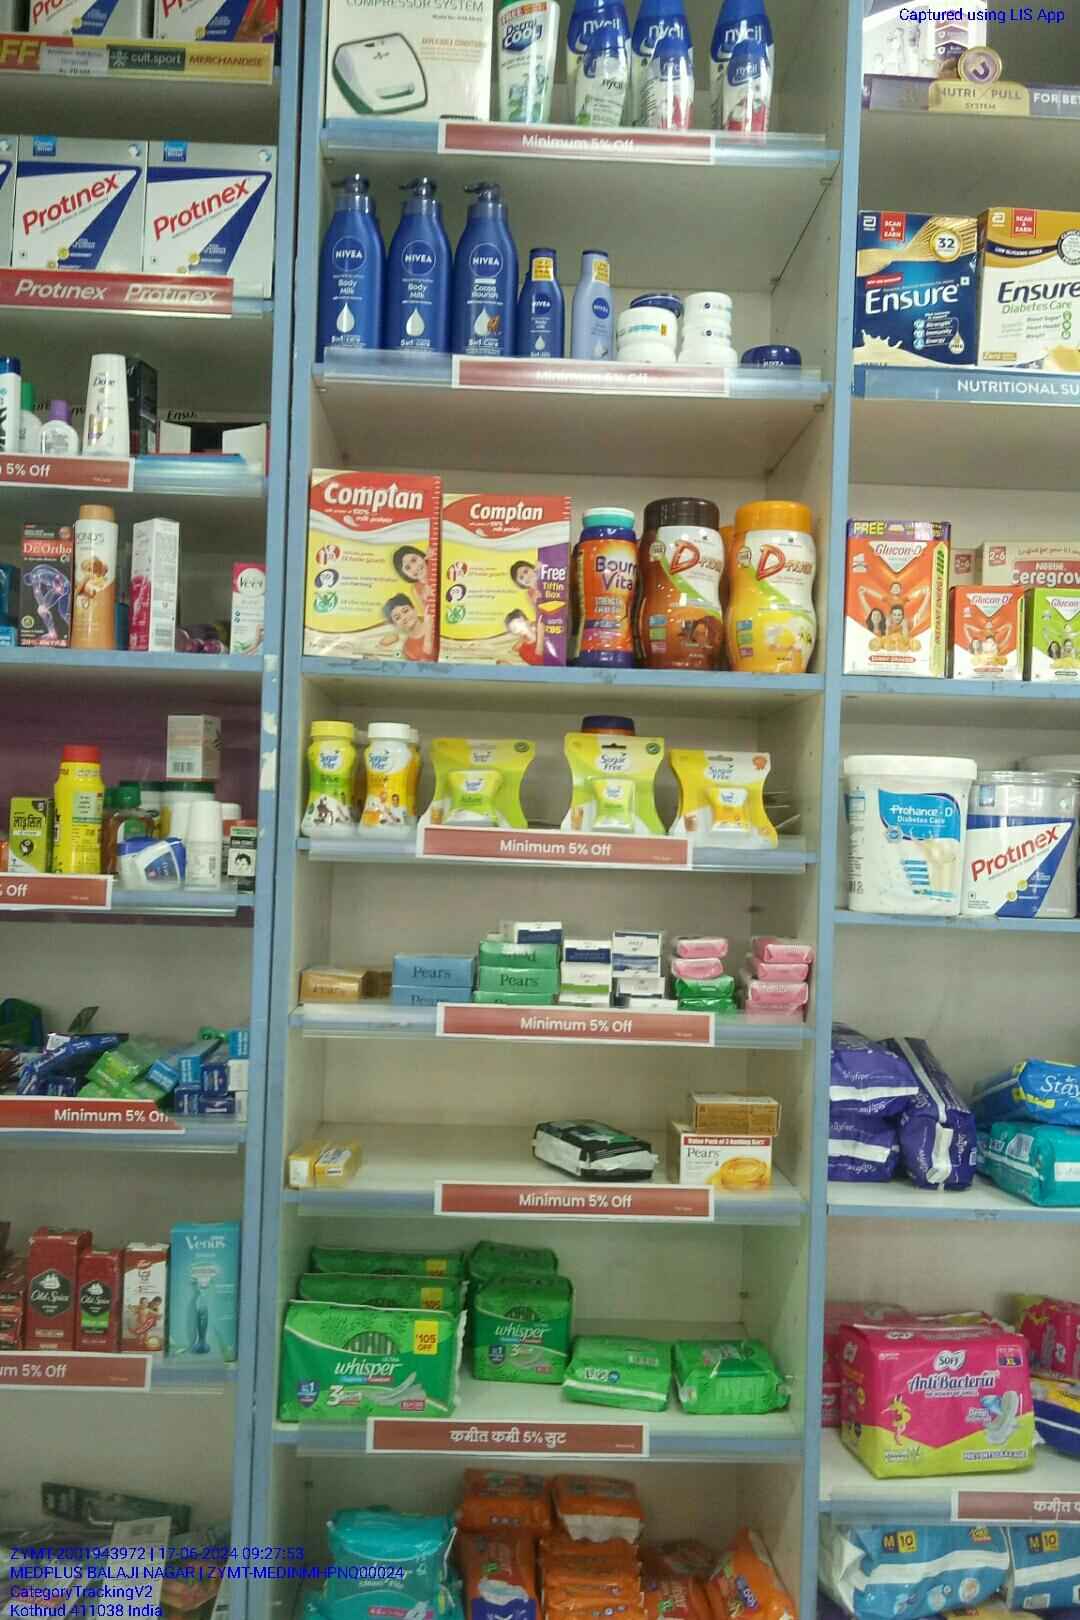BOURN_VITA_200_G_JAR: (577, 524, 636, 665)
COMPLAN_KESAR_BADAM_500_GMS_PACK: (309, 469, 435, 657), (440, 495, 567, 667)
